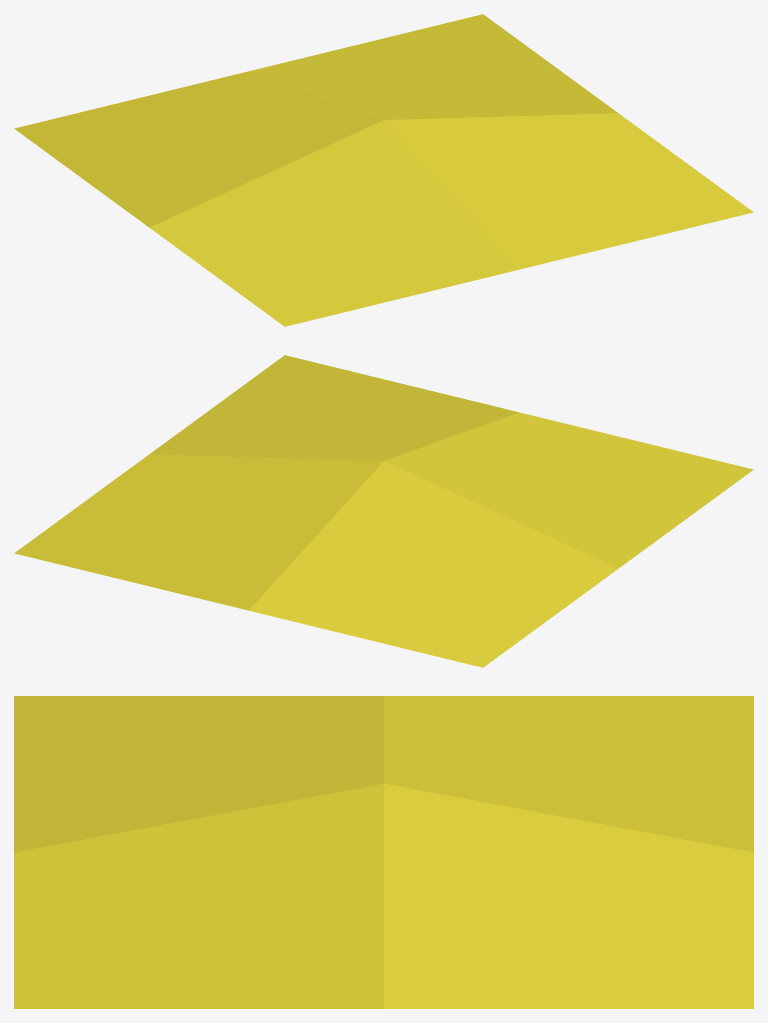
The model's file is Trashpile.fbx.
3 renders of one model, top to bottom at view 1: azimuth 30°, elevation 25°; view 2: azimuth 150°, elevation 25°; view 3: azimuth 270°, elevation 25°, orthographic. The views are drawn at different scales.
Visible parts, largest first — view 1: Plane; view 2: Plane; view 3: Plane.
Part boxes in pixels (x1,y1,x2,y2): Plane: (14,14,753,326); Plane: (14,355,753,667); Plane: (14,696,753,1008).
Size of the model in its own units: 200 by 20.54 by 200.
